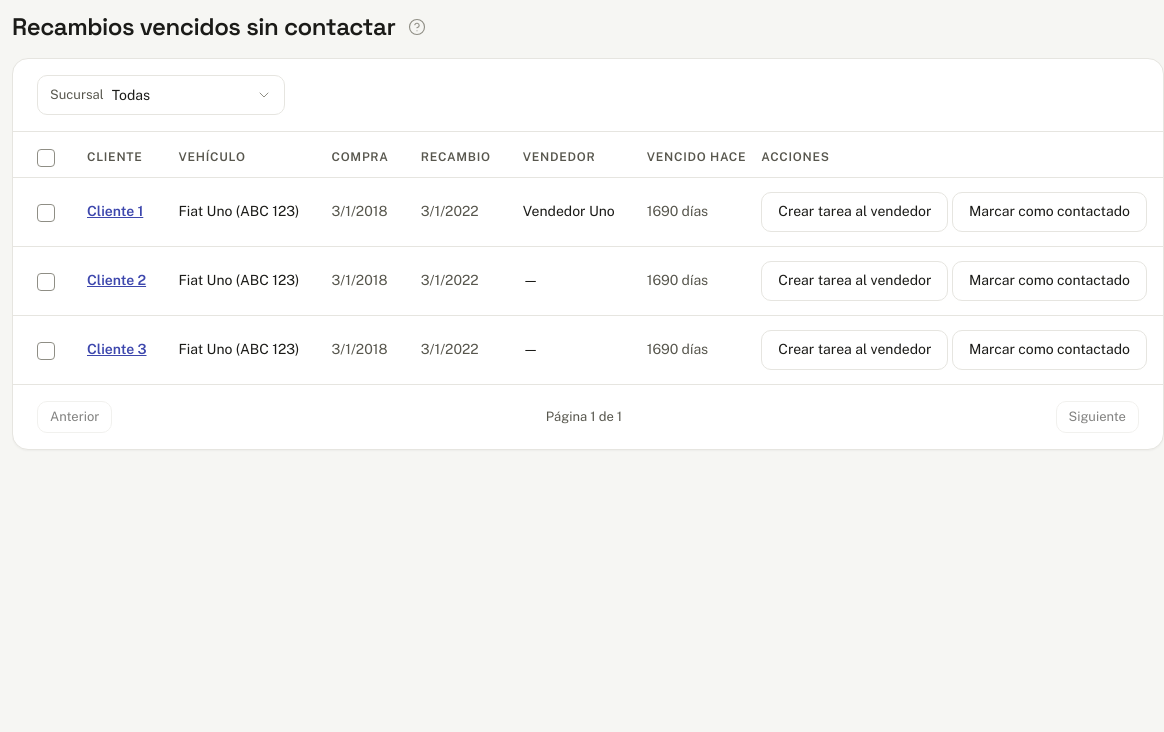
it: Taller → Recambios (S13) › con varias seleccionadas, 'Marcar como contactado' las manda juntas y avisa las que fallan
This screenshot has width=1164, height=732.
Click the checkbox named "Seleccionar el recambio de Cliente 1, Fiat Uno (ABC 123)" at (46, 213), box [37,204,55,222]
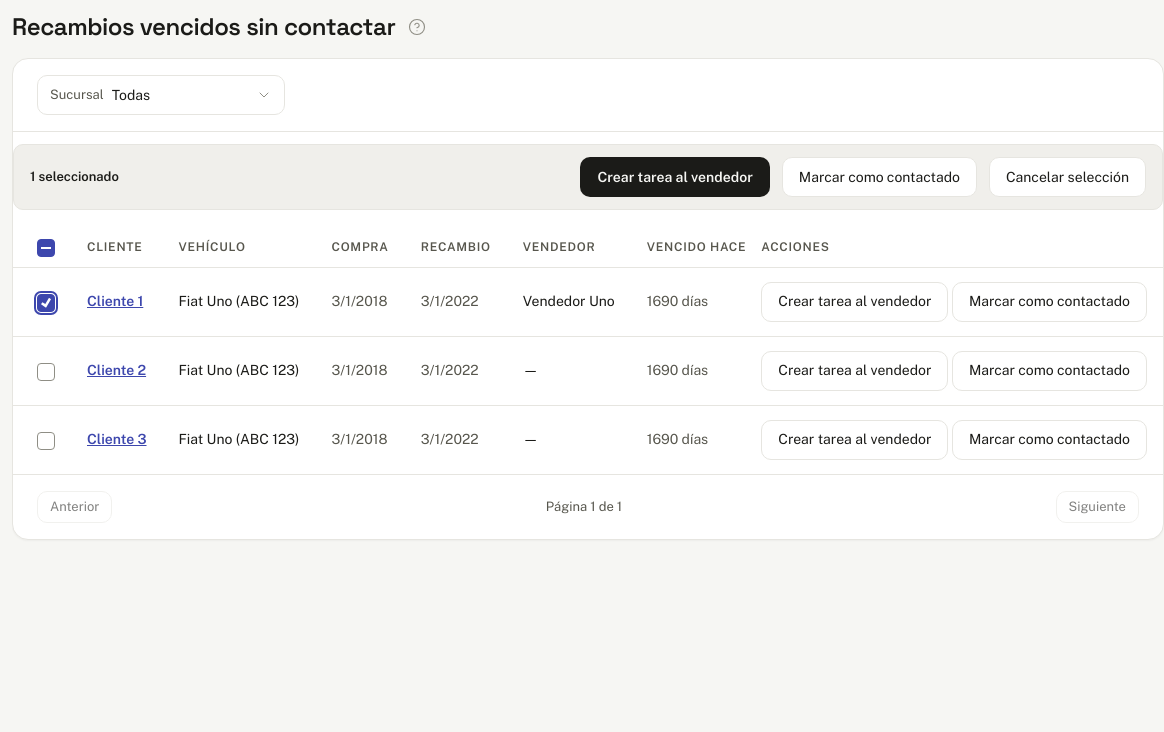
Click the checkbox named "Seleccionar el recambio de Cliente 3, Fiat Uno (ABC 123)" at (46, 441), box [37,432,55,450]
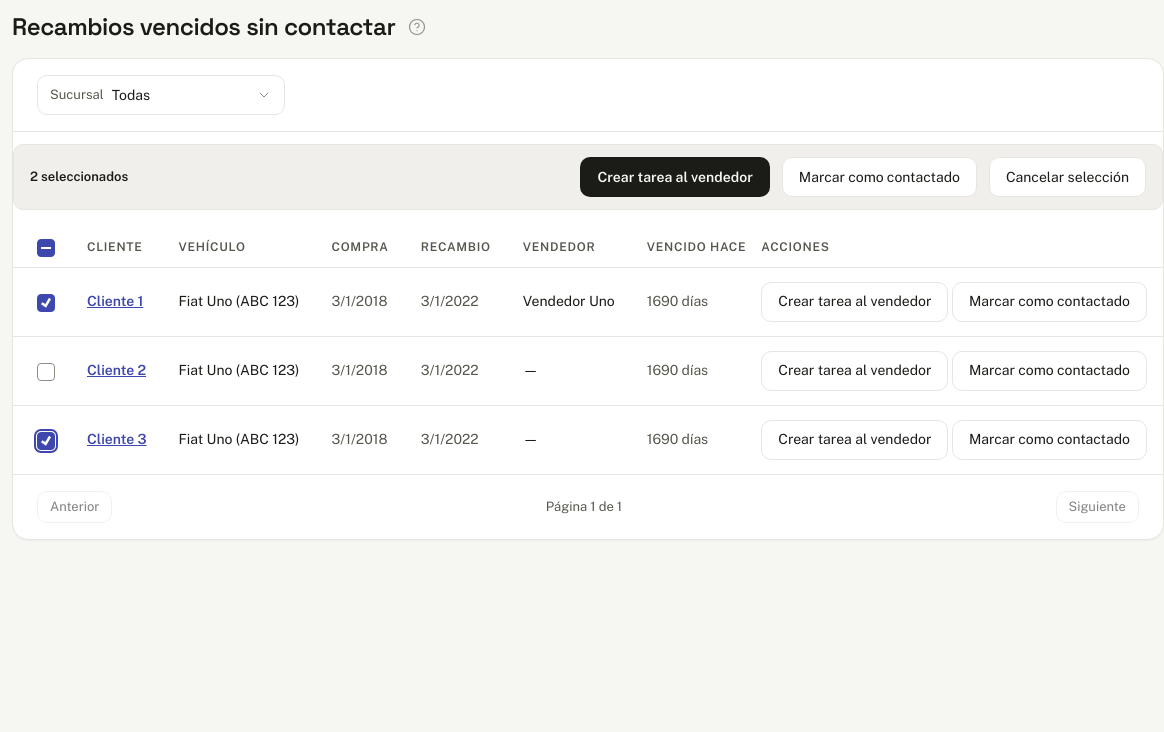
Check: the text "2 seleccionados" is shown, box [30,167,128,187]
Click the button "Marcar como contactado" in the row of "2 seleccionados" at (879, 177), box [782,157,977,197]
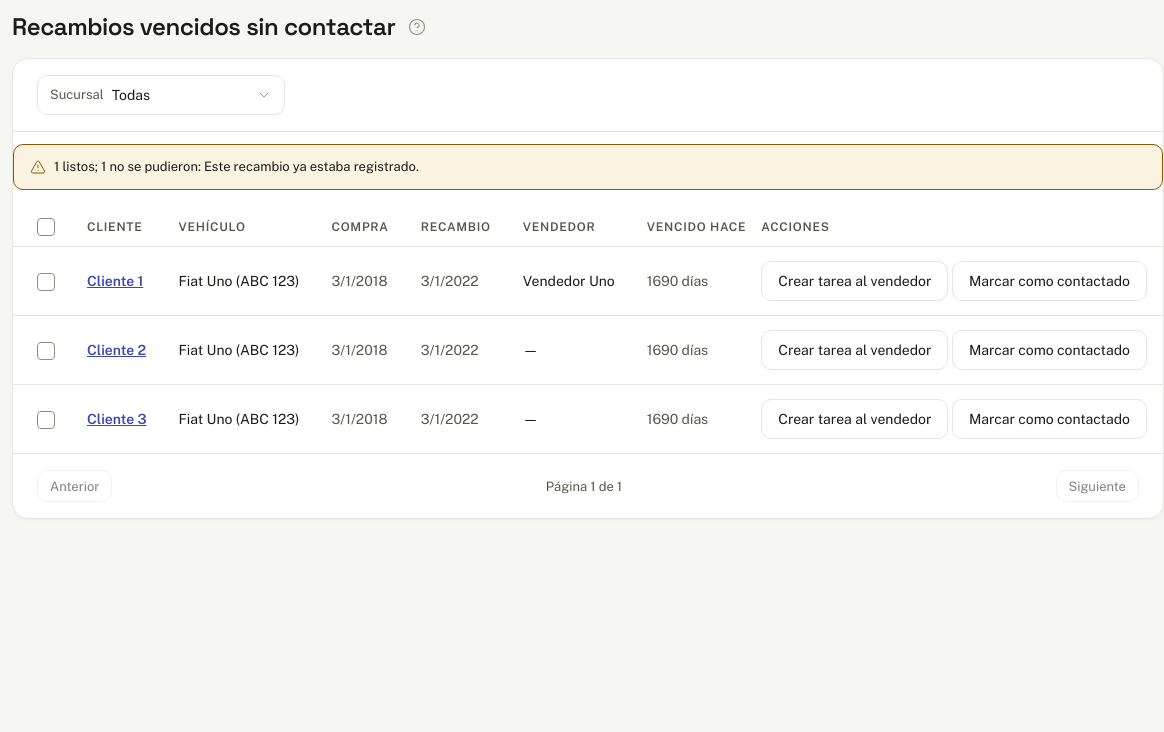
Check: the text "1 listos; 1 no se pudieron: Este recambio ya estaba registrado." is shown, box [54,157,419,176]
